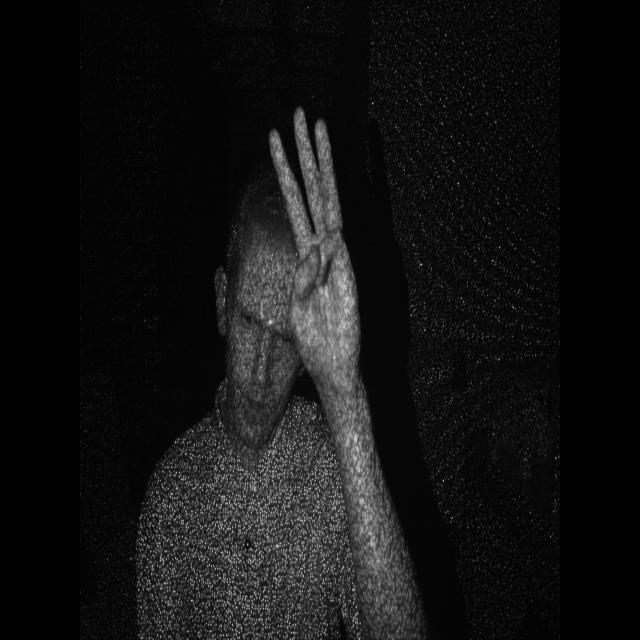W: (258, 88, 376, 380)
